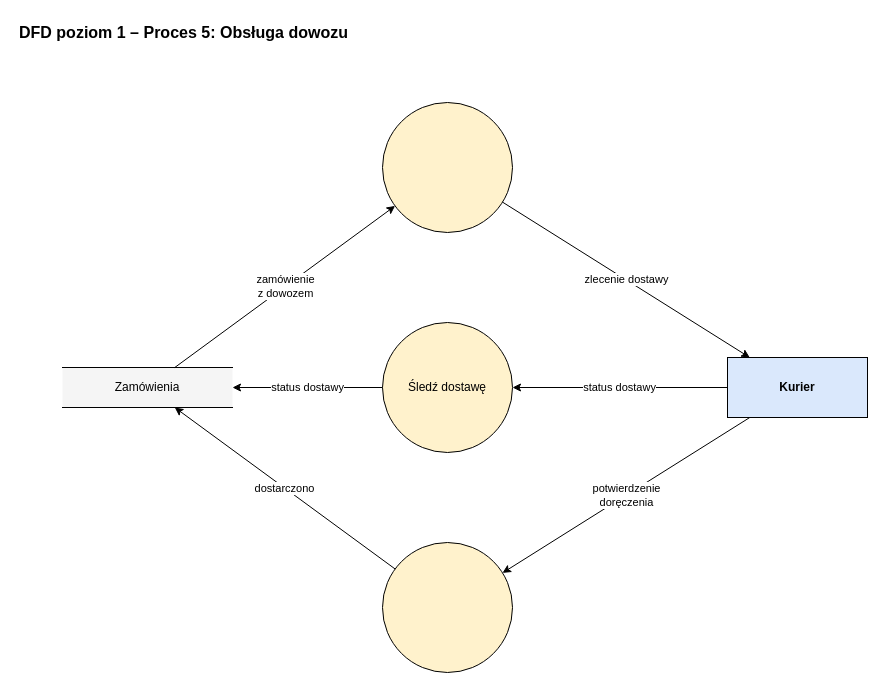
This 885x690 diagram has some shape labels left out. Here are the shapes that lost their labels. From the top down, the box of each, then its label:
(382, 102, 512, 232): Przydziel kuriera
(382, 542, 512, 672): Potwierdź doręczenie
